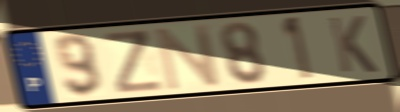1: (279, 14, 316, 83)
8: (219, 19, 270, 87)
9: (53, 31, 105, 99)
K: (325, 14, 381, 75)
N: (153, 22, 224, 93)
Z: (101, 27, 167, 96)
